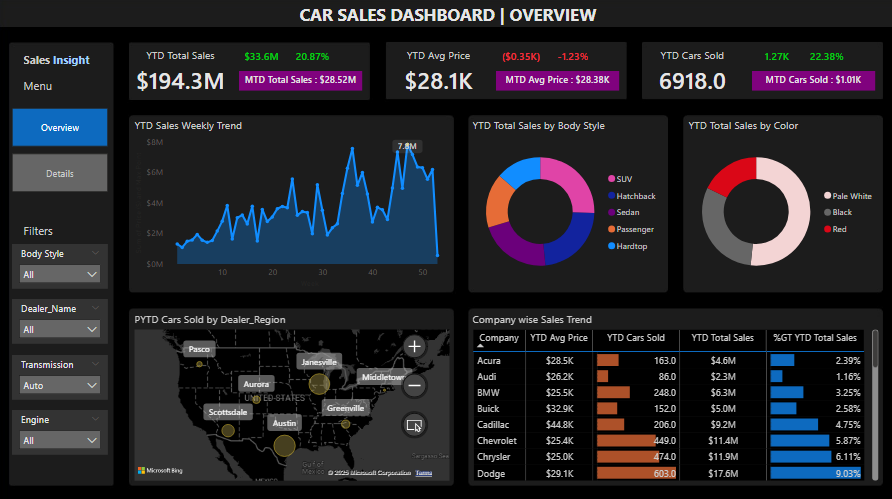

Layout of this report page (visuals, bound fields, positions):
{"tool":"powerbi","page":{"name":"Overview","canvas":[1280,720],"ordinal":0},"visuals":[{"type":"card","title":"YTD Total Sales","fields":{"Values":["car_data.YTD Total  Sales"]},"box":[190,70,141.1,71.1],"z":0},{"type":"card","fields":{"Values":["car_data.Sales Difference"]},"box":[344.4,70,64.4,26.7],"z":1000},{"type":"card","fields":{"Values":["car_data.YoY Sales Growth"]},"box":[416.7,70,64.4,26.7],"z":2000},{"type":"card","fields":{"Values":["car_data.MTD KPI"]},"box":[344.4,103.3,175.6,27.8],"z":3000},{"type":"card","fields":{"Values":["car_data.Avg Price Difference"]},"box":[711.1,70,71.1,26.7],"z":4000},{"type":"card","fields":{"Values":["car_data.YoY Price Growth"]},"box":[785.6,70,71.1,26.7],"z":5000},{"type":"card","fields":{"Values":["car_data.MTD Avg Price KPI"]},"box":[711.1,103.3,175.6,27.8],"z":6000},{"type":"card","title":"YTD Avg Price","fields":{"Values":["car_data.YTD Avg Price"]},"box":[558.9,70,141.1,71.1],"z":7000},{"type":"card","title":"YTD Cars Sold","fields":{"Values":["car_data.YTD Car Sold"]},"box":[921.1,70,141.1,71.1],"z":8000},{"type":"card","fields":{"Values":["car_data.Cars Sold Diff"]},"box":[1077.8,70,71.1,26.7],"z":9000},{"type":"card","fields":{"Values":["car_data.MTD Cars Sold KPI"]},"box":[1077.8,103.3,175.6,27.8],"z":10000},{"type":"card","fields":{"Values":["car_data.YoY Sold Growth"]},"box":[1148.9,70,71.1,26.7],"z":11000},{"type":"areaChart","title":"YTD Sales Weekly Trend","fields":{"Category":["Calender table.Week"],"Y":["Sum(car_data.Price ($))","car_data.Max Point"]},"box":[190,170,460,247.5],"z":12000},{"type":"donutChart","fields":{"Category":["car_data.Body Style"],"Y":["car_data.YTD Total  Sales"]},"box":[672.9,170,281.4,247.1],"z":13000},{"type":"donutChart","fields":{"Y":["car_data.YTD Total  Sales"],"Category":["car_data.Color"]},"box":[981.4,170,281.4,247.1],"z":14000},{"type":"map","fields":{"Category":["car_data.Dealer_Region"],"Size":["car_data.PYTD Cars Sold"]},"box":[190,447.1,460,245.7],"z":15000},{"type":"tableEx","title":"Company wise Sales Trend","fields":{"Values":["car_data.Company","car_data.YTD Avg Price","car_data.YTD Cars Sold","car_data.YTD Total  Sales1","car_data.YTD Total  Sales"]},"box":[672.9,447.1,590,245.7],"z":16000},{"type":"textbox","box":[425.7,0,448.6,47.1],"z":17000},{"type":"slicer","fields":{"Values":["car_data.Body Style"]},"box":[20,350,137.1,64.3],"z":18000},{"type":"slicer","fields":{"Values":["car_data.Dealer_Name"]},"box":[20,429,137.1,64.3],"z":19000},{"type":"slicer","fields":{"Values":["car_data.Transmission"]},"box":[20,508.1,137.1,64.3],"z":20000},{"type":"slicer","fields":{"Values":["car_data.Engine"]},"box":[20,587.1,137.1,64.3],"z":21000},{"type":"textbox","box":[31.4,315.7,125.7,34.3],"z":22000},{"type":"textbox","box":[31.4,71.4,125.7,34.3],"z":23000},{"type":"textbox","box":[31.4,108.6,125.7,34.3],"z":24000},{"type":"pageNavigator","box":[20,155.7,137.1,121.4],"z":25000}]}

Visuals, with their boxes in screenshot pixels (x1, y1, x2, y2), scaled from the page's 1280x720 canvas onto the 892x499 screenshot:
"YTD Total Sales" card: bbox=(132, 49, 231, 98)
card - car_data.Sales Difference: bbox=(240, 49, 285, 67)
card - car_data.YoY Sales Growth: bbox=(290, 49, 335, 67)
card - car_data.MTD KPI: bbox=(240, 72, 362, 91)
card - car_data.Avg Price Difference: bbox=(496, 49, 545, 67)
card - car_data.YoY Price Growth: bbox=(547, 49, 597, 67)
card - car_data.MTD Avg Price KPI: bbox=(496, 72, 618, 91)
"YTD Avg Price" card: bbox=(389, 49, 488, 98)
"YTD Cars Sold" card: bbox=(642, 49, 740, 98)
card - car_data.Cars Sold Diff: bbox=(751, 49, 801, 67)
card - car_data.MTD Cars Sold KPI: bbox=(751, 72, 873, 91)
card - car_data.YoY Sold Growth: bbox=(801, 49, 850, 67)
"YTD Sales Weekly Trend" areaChart: bbox=(132, 118, 453, 289)
donutChart - car_data.Body Style x car_data.YTD Total  Sales: bbox=(469, 118, 665, 289)
donutChart - car_data.YTD Total  Sales x car_data.Color: bbox=(684, 118, 880, 289)
map - car_data.Dealer_Region x car_data.PYTD Cars Sold: bbox=(132, 310, 453, 480)
"Company wise Sales Trend" tableEx: bbox=(469, 310, 880, 480)
textbox: bbox=(297, 0, 609, 33)
slicer - car_data.Body Style: bbox=(14, 243, 109, 287)
slicer - car_data.Dealer_Name: bbox=(14, 297, 109, 342)
slicer - car_data.Transmission: bbox=(14, 352, 109, 397)
slicer - car_data.Engine: bbox=(14, 407, 109, 451)
textbox: bbox=(22, 219, 109, 243)
textbox: bbox=(22, 49, 109, 73)
textbox: bbox=(22, 75, 109, 99)
pageNavigator: bbox=(14, 108, 109, 192)
